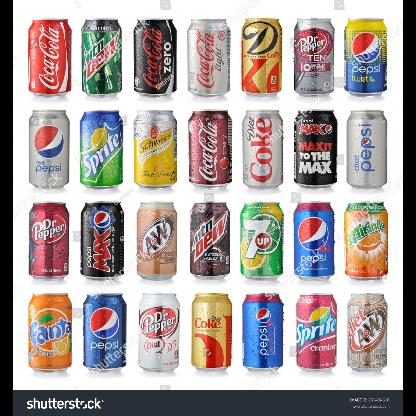Tin_Can: (76, 14, 126, 102), (23, 292, 75, 374), (26, 14, 74, 102), (186, 288, 234, 376), (341, 200, 391, 284), (184, 16, 234, 99), (132, 14, 180, 100), (238, 197, 286, 283), (184, 108, 234, 190), (130, 109, 180, 191), (291, 197, 339, 282), (78, 202, 128, 283), (342, 107, 390, 191), (342, 291, 390, 375), (81, 291, 129, 375), (78, 108, 126, 192), (137, 289, 183, 375), (291, 108, 339, 190), (242, 287, 286, 375), (291, 16, 337, 100), (134, 200, 180, 284), (26, 108, 72, 192), (238, 16, 284, 98), (292, 291, 338, 373), (26, 201, 72, 283), (239, 108, 285, 190), (344, 17, 388, 99), (186, 200, 230, 282)
